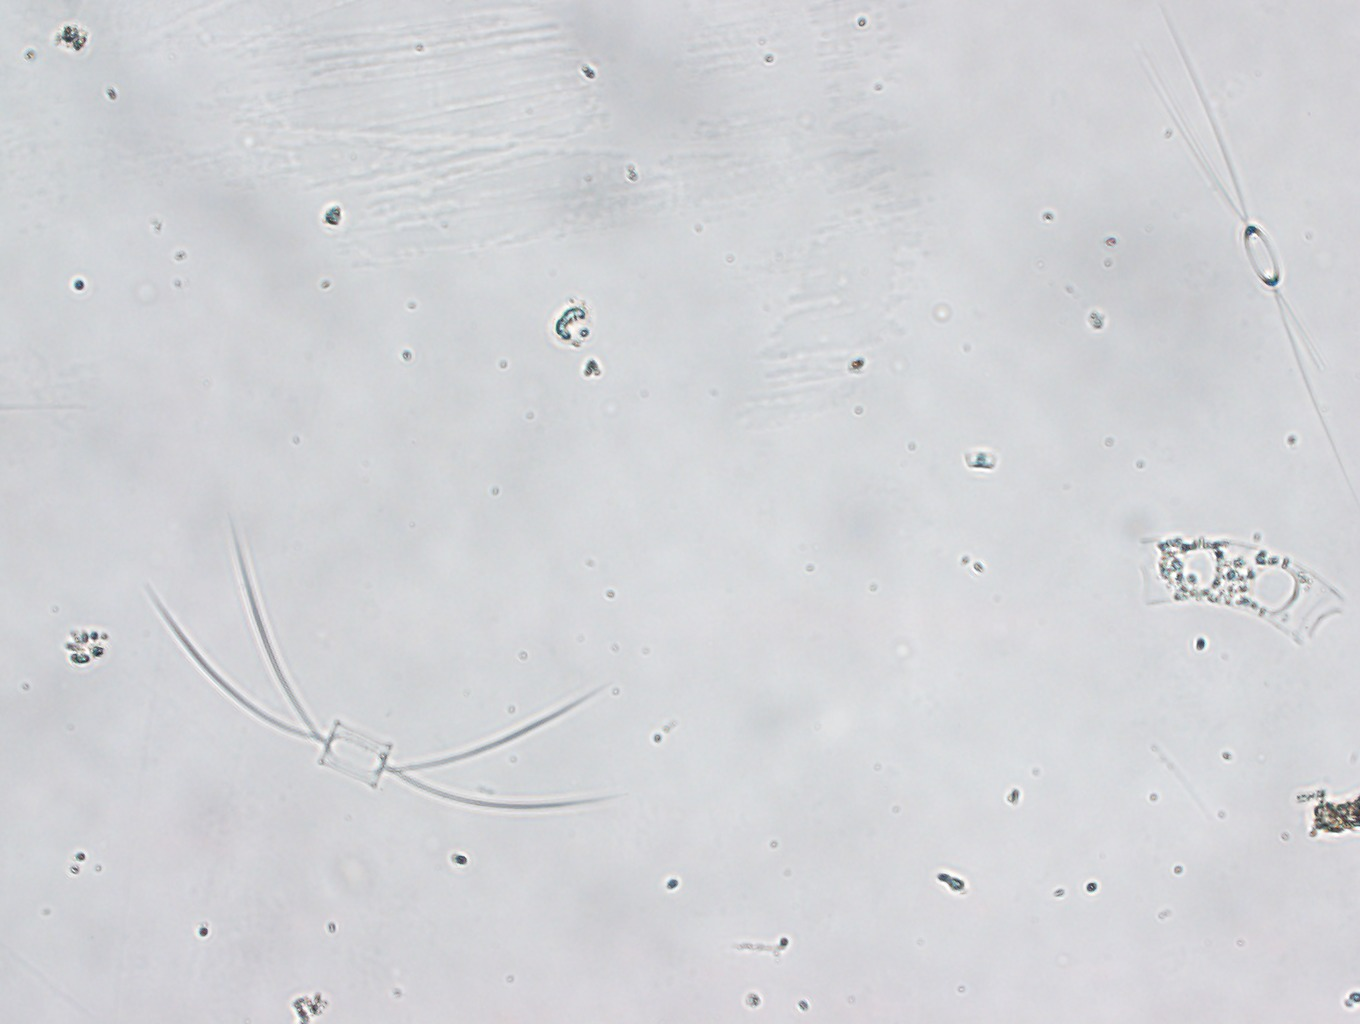chaetoceros: (145, 511, 622, 811), (1134, 1, 1355, 490)
eucampia: (1131, 536, 1352, 648)
